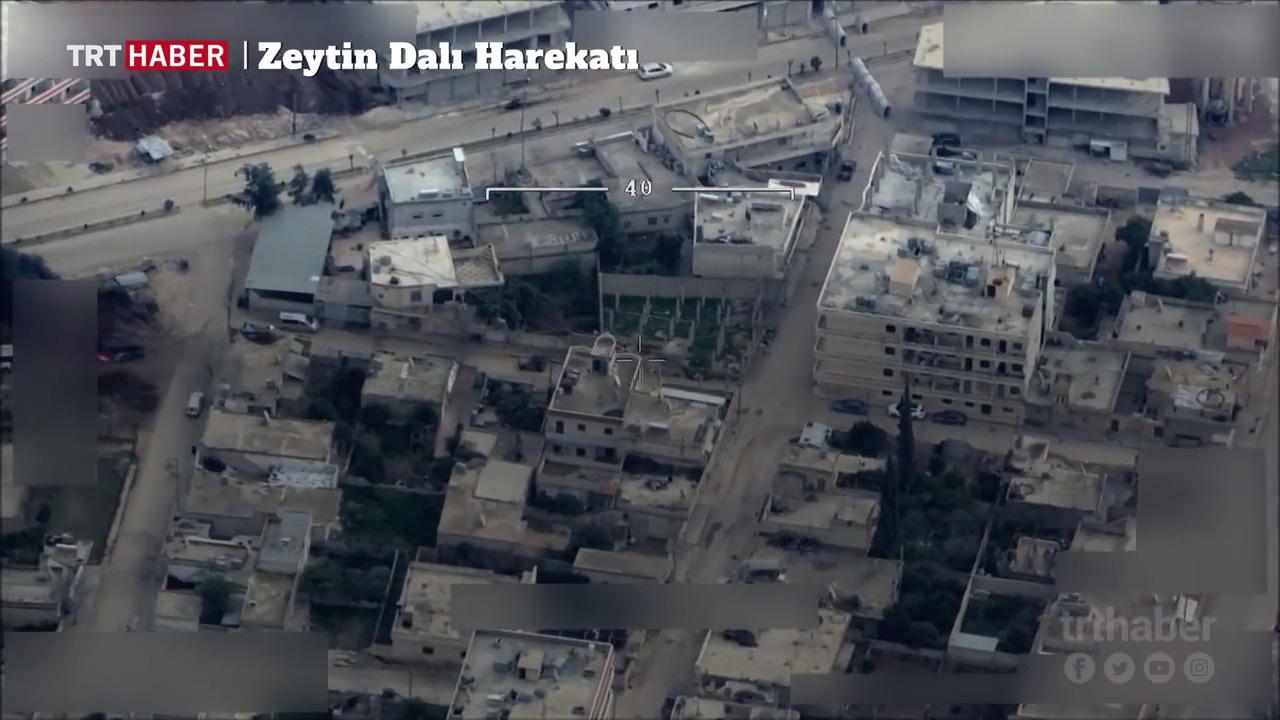arac: (933, 389, 968, 434), (886, 392, 932, 423), (276, 309, 325, 337), (516, 342, 557, 374), (634, 62, 681, 85), (179, 384, 211, 416), (823, 397, 874, 417), (930, 127, 969, 149), (833, 150, 859, 181)
bina: (1222, 314, 1273, 357)
